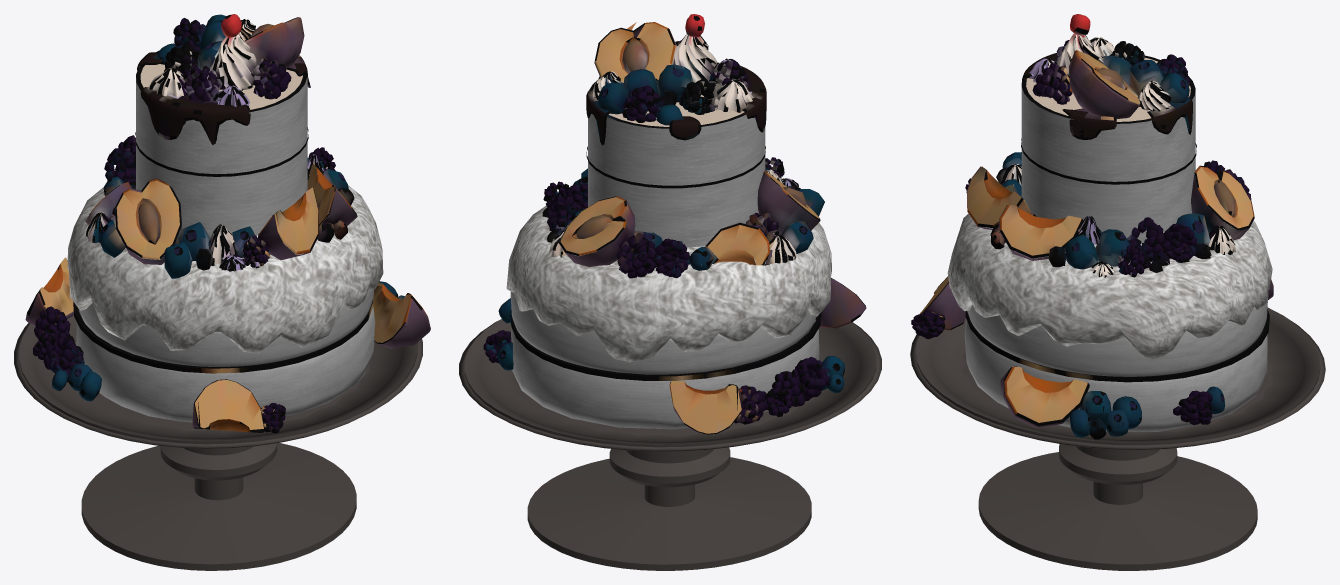
Rendered from FRUITCC.glb.
3 views of the same model, side by side, from view 1: azimuth 30°, elevation 25°; view 2: azimuth 150°, elevation 25°; view 3: azimuth 270°, elevation 25° (orthographic). The views are drawn at different scales.
Parts seen in each view (by area): view 1: BREADBAKE.002; view 2: BREADBAKE.002; view 3: BREADBAKE.002.
Boxes of the visible parts, bbox=[...] form: BREADBAKE.002: bbox=[14, 14, 430, 570]; BREADBAKE.002: bbox=[459, 14, 881, 570]; BREADBAKE.002: bbox=[910, 14, 1325, 570].
Bounding box in the file's own units: 0.1266 × 0.1671 × 0.1269.
Materials: 3 (3 with a texture image).
